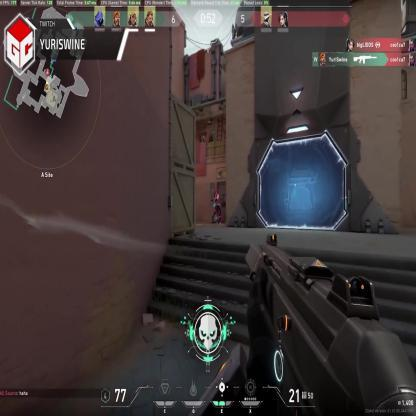enemy: (212, 191, 220, 222)
enemy_head: (215, 190, 218, 194)
